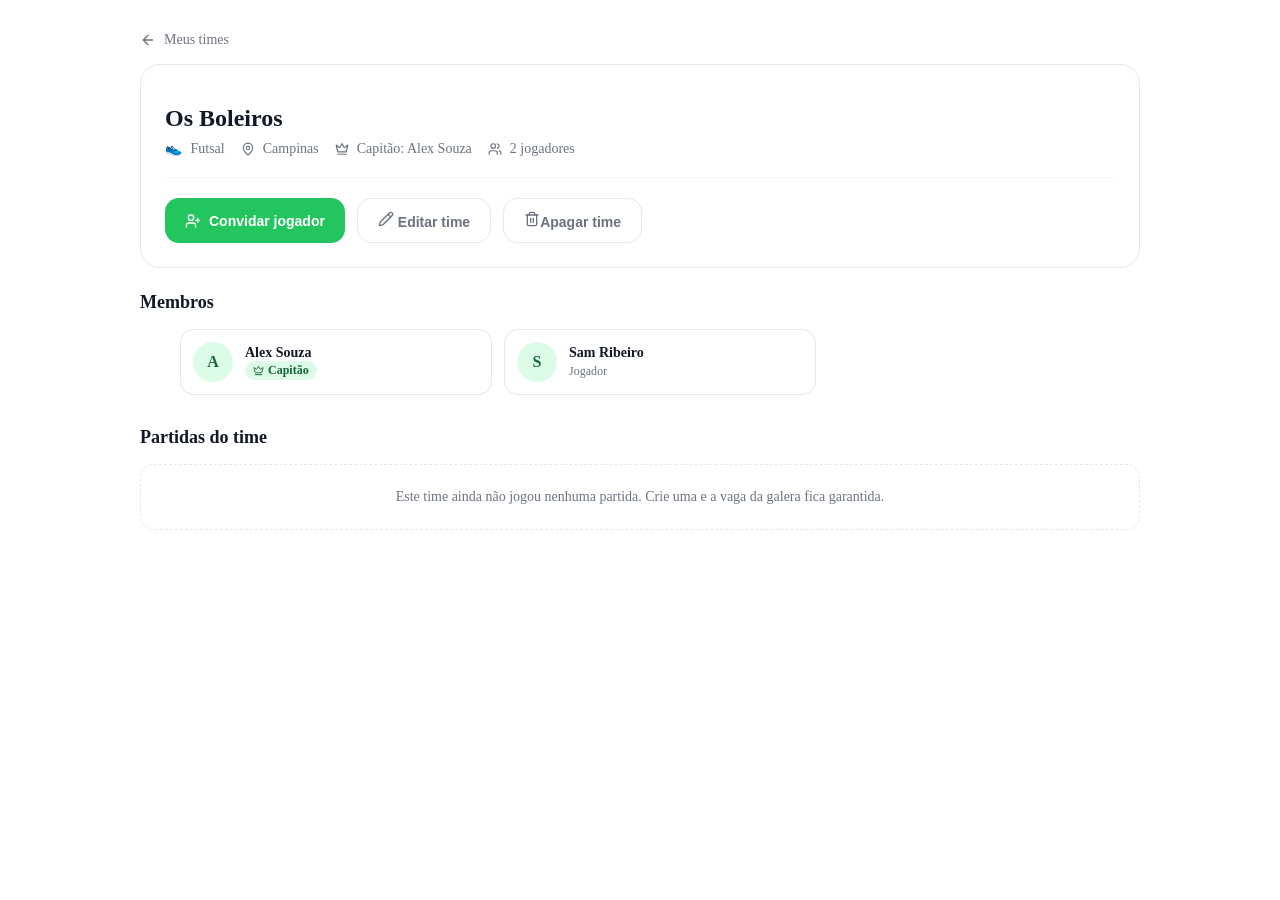
Test: Página do time › Ações do capitão › mostra o erro da api sem fechar o formulário
This screenshot has width=1280, height=900.
Click the button "Convidar jogador" at (255, 221), box [165,198,345,243]
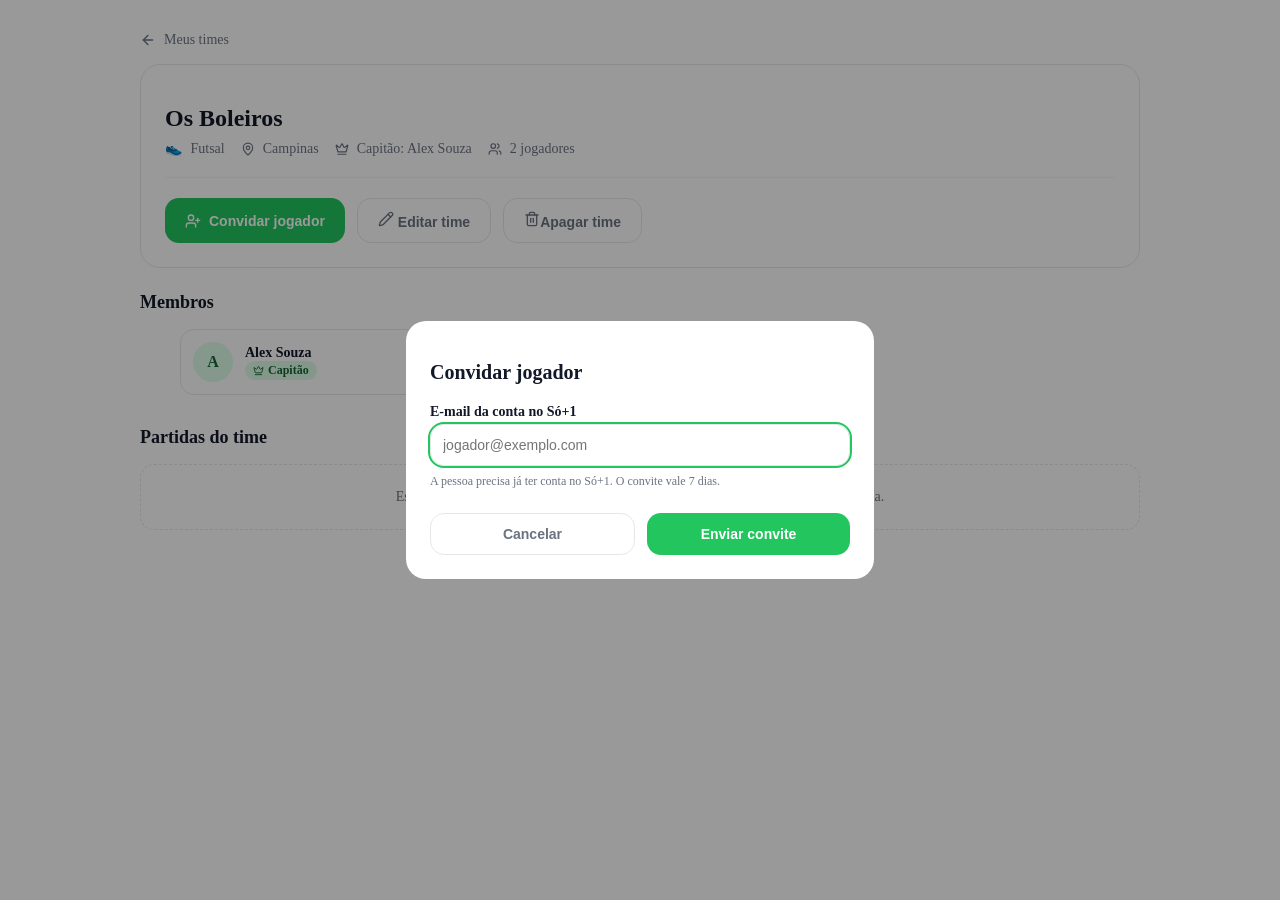
Type "ja@esta.com" into the field labelled "E-mail da conta no Só+1" at (640, 445), box [430,424,850,466]
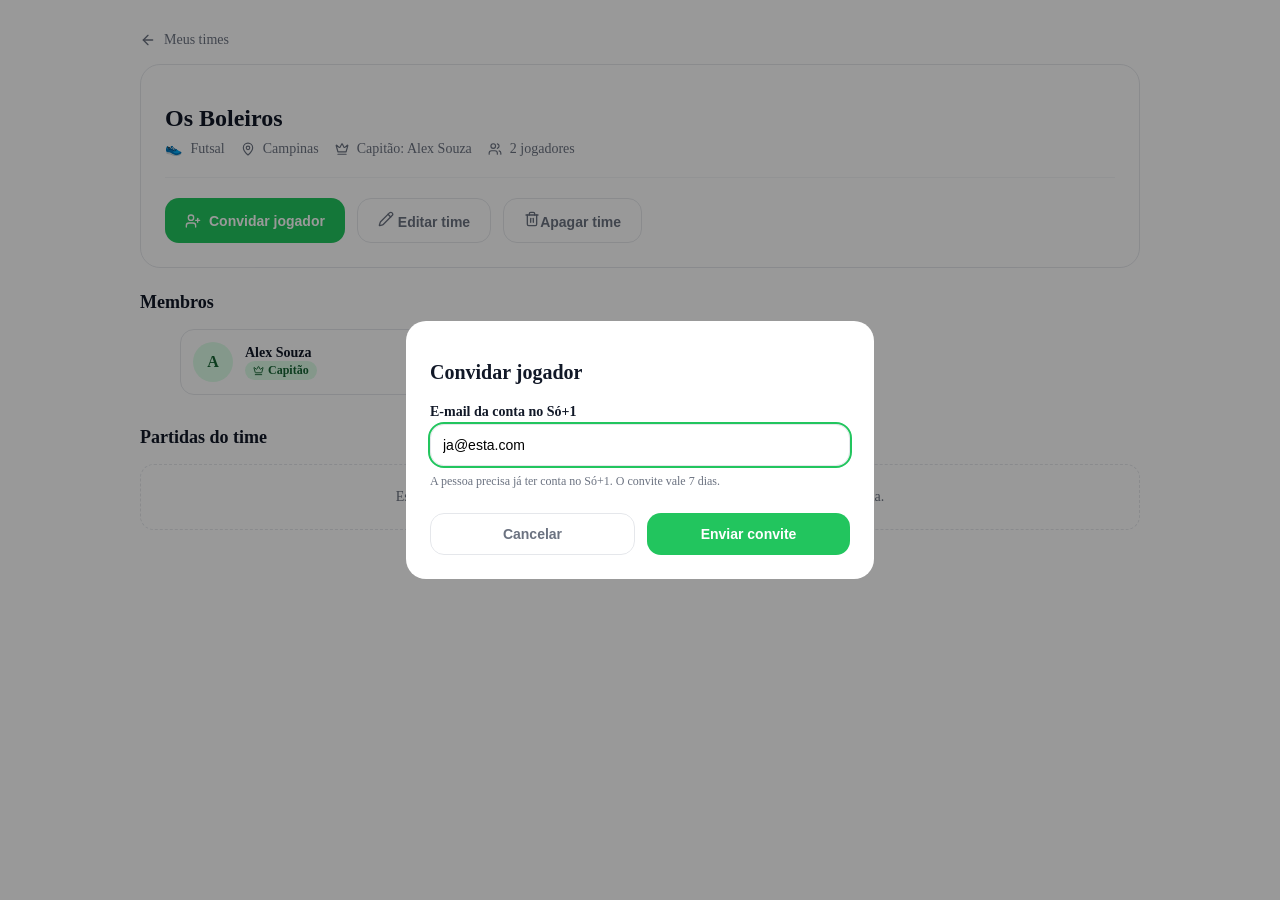
Click the button "Enviar convite" at (748, 534), box [647,513,850,555]
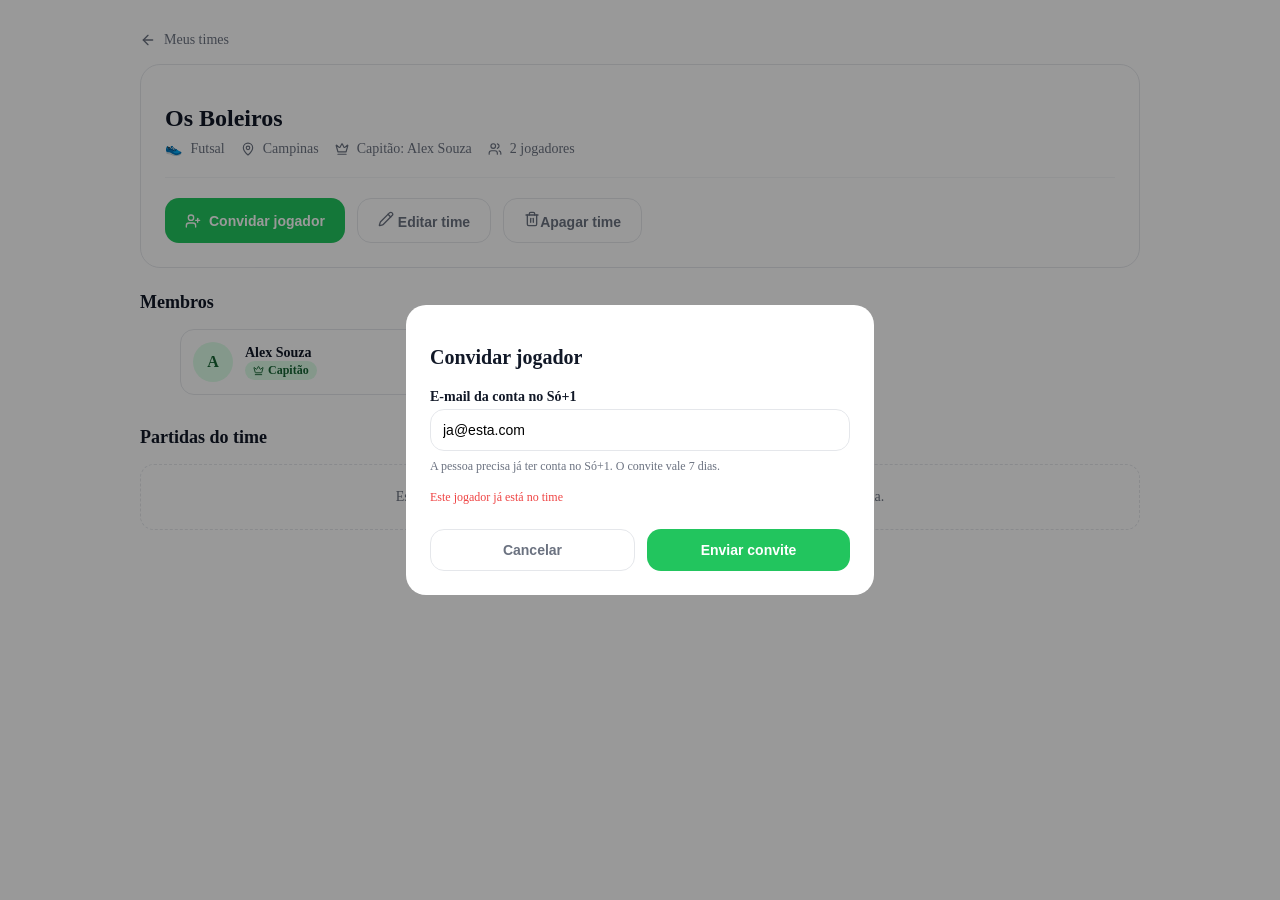
Check: the dialog is shown, box [406,305,874,595]
Check: the message reads "Este jogador já está no time", box [430,490,563,504]
